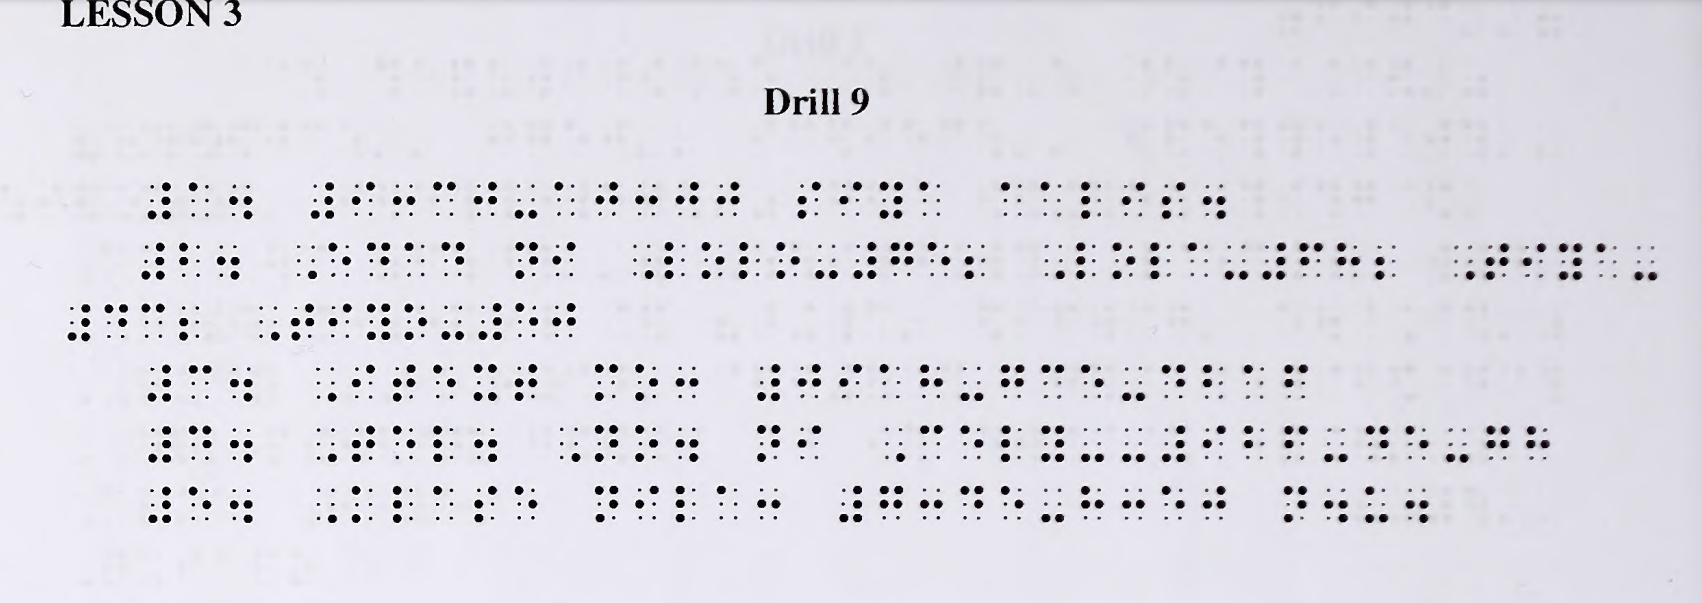0: (474, 181, 498, 216), (675, 181, 699, 216), (716, 181, 740, 216), (552, 303, 576, 338), (797, 364, 821, 399), (1202, 485, 1226, 520), (595, 181, 618, 216)
1: (188, 182, 210, 218), (879, 364, 901, 399), (554, 181, 575, 217), (1244, 364, 1264, 400)
2: (178, 242, 200, 277), (1202, 364, 1223, 400), (1244, 425, 1264, 460)
3: (141, 303, 165, 338), (188, 365, 212, 399), (433, 181, 456, 216), (1041, 364, 1064, 399)
4: (188, 425, 212, 461), (1365, 424, 1389, 460), (1162, 364, 1186, 399), (104, 304, 128, 338), (960, 486, 984, 520)
5: (1405, 425, 1429, 460), (188, 486, 212, 521), (1161, 485, 1185, 520), (927, 241, 950, 277), (515, 303, 538, 338), (1081, 364, 1104, 399), (1001, 486, 1024, 521)
6: (1284, 364, 1309, 399), (1299, 242, 1323, 278), (1284, 425, 1308, 460)
7: (1486, 425, 1510, 461), (890, 242, 914, 277), (1001, 364, 1025, 399), (879, 485, 903, 520)
8: (1336, 242, 1360, 278), (1526, 426, 1550, 460), (920, 364, 943, 399), (1081, 486, 1104, 520)
9: (351, 181, 375, 216), (839, 364, 862, 400), (1203, 425, 1226, 460)
C: (920, 425, 943, 459)
E: (327, 242, 351, 277)
I: (351, 364, 375, 399), (433, 425, 453, 462)
K: (352, 486, 373, 523)
L: (664, 241, 686, 279), (1076, 242, 1096, 279)
N: (595, 424, 618, 462)
T: (290, 303, 315, 341), (1485, 243, 1509, 280), (351, 425, 375, 462)
a: (1040, 181, 1062, 217), (716, 486, 738, 521), (1188, 242, 1209, 278), (1596, 242, 1617, 278), (433, 485, 454, 521), (919, 181, 940, 216), (404, 242, 425, 277), (1001, 182, 1022, 216)
capital: (1454, 244, 1475, 280), (633, 244, 654, 279), (1044, 244, 1065, 279), (259, 306, 280, 341), (316, 367, 337, 402), (560, 427, 581, 462), (317, 488, 338, 523), (316, 428, 337, 462), (885, 427, 905, 462), (297, 245, 317, 279)
d: (367, 241, 390, 278), (441, 242, 464, 276)
e: (392, 425, 416, 460), (514, 485, 538, 520), (433, 364, 456, 399), (960, 425, 983, 460)
i: (552, 241, 576, 277), (1522, 242, 1546, 278), (1121, 182, 1145, 217), (328, 303, 352, 338), (797, 425, 821, 460), (635, 486, 659, 521), (839, 181, 862, 216)
l: (392, 485, 414, 523), (739, 241, 760, 279), (1150, 242, 1171, 279), (1001, 425, 1022, 462), (675, 486, 696, 523), (1081, 181, 1101, 219)
m: (595, 364, 619, 401)
n: (1283, 485, 1307, 524), (595, 486, 619, 524), (515, 242, 538, 279), (757, 425, 780, 462)
number: (1261, 242, 1286, 280), (67, 303, 91, 342), (147, 182, 171, 220), (141, 242, 165, 280), (147, 364, 171, 402), (310, 182, 334, 219), (853, 242, 877, 279), (478, 303, 502, 340), (757, 364, 781, 401), (147, 486, 171, 523), (839, 486, 863, 523), (147, 426, 171, 462), (1162, 425, 1185, 462)
o: (635, 424, 659, 462), (701, 241, 724, 280), (776, 242, 800, 279), (1112, 242, 1136, 279), (404, 303, 427, 340), (635, 364, 658, 401)
s: (796, 181, 821, 219), (1162, 182, 1186, 220), (474, 485, 497, 523)
t: (392, 364, 416, 402), (514, 364, 538, 401)
u: (1365, 485, 1389, 523)
x: (473, 364, 497, 401)
y: (1558, 242, 1583, 281), (366, 303, 391, 340), (879, 181, 903, 219), (1041, 425, 1065, 462)
